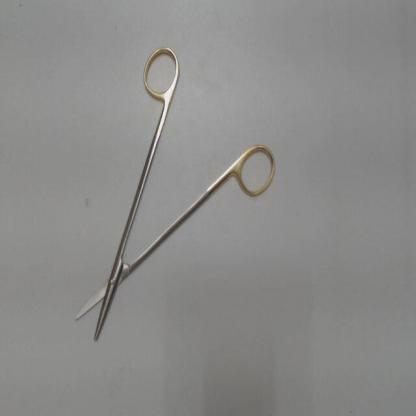7 Metzenbaum Scissors: (68, 39, 282, 348)
